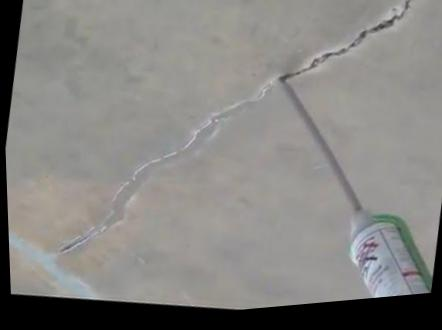crack: (280, 0, 418, 86)
